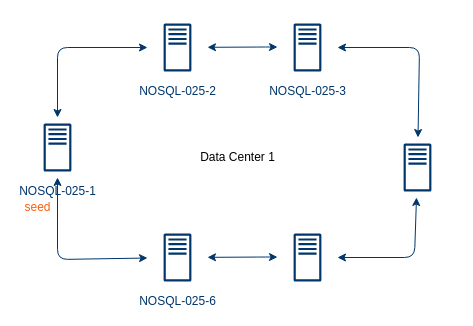
Image size: 473x326. Some labels were removed from this diagram. The shapes that lost their labels are listed below. From the top down, each one's centre as x and y in pixels, then its label:
pixel 417 167: NOSQL-025-4
pixel 307 257: NOSQL-025-5
